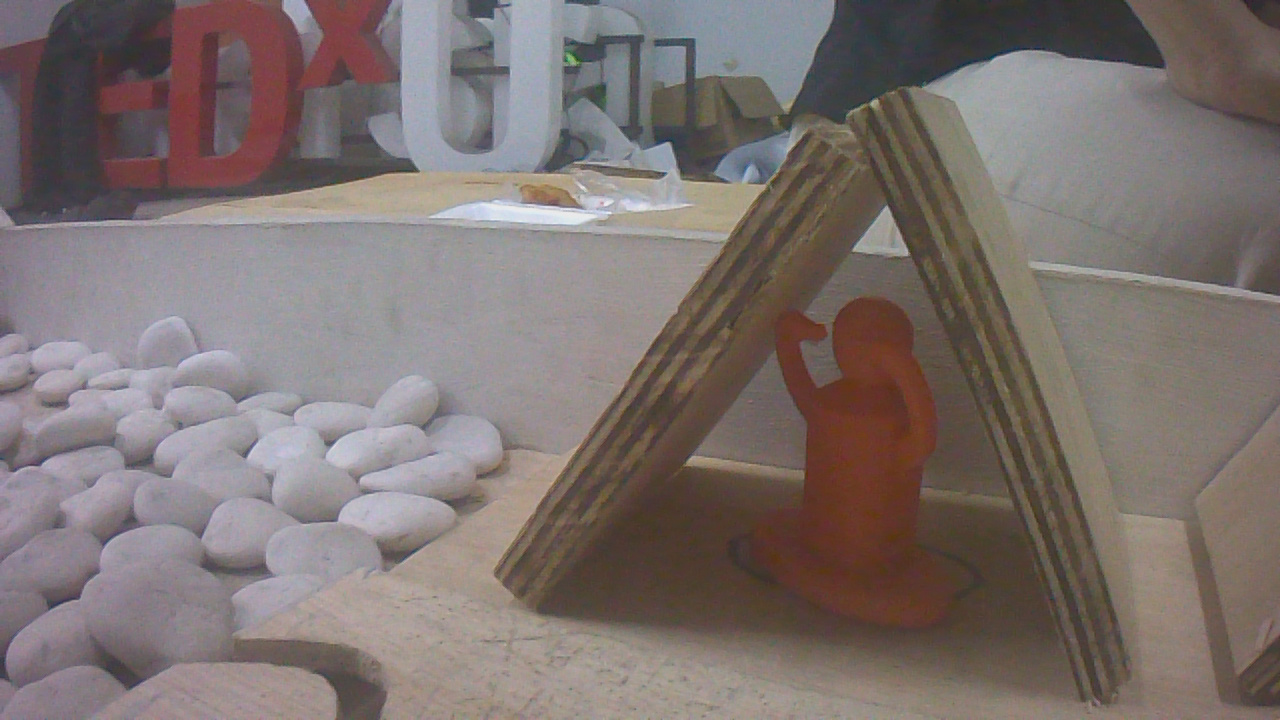real: (751, 292, 957, 626)
